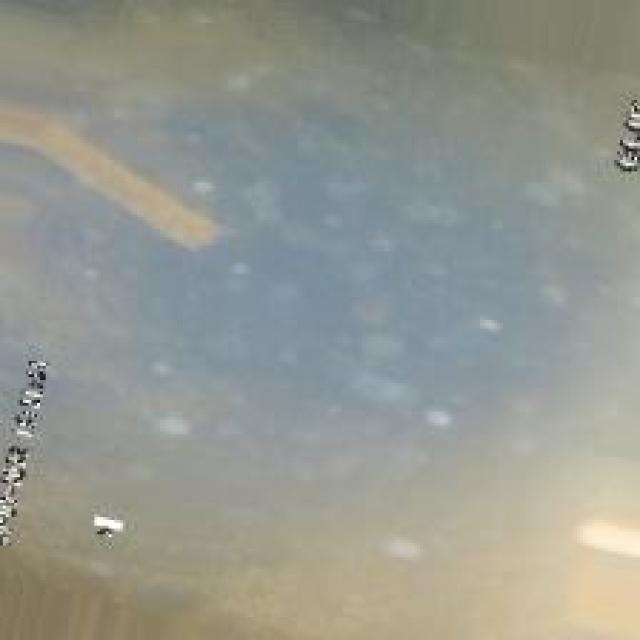ferrule: (0, 94, 243, 257)
